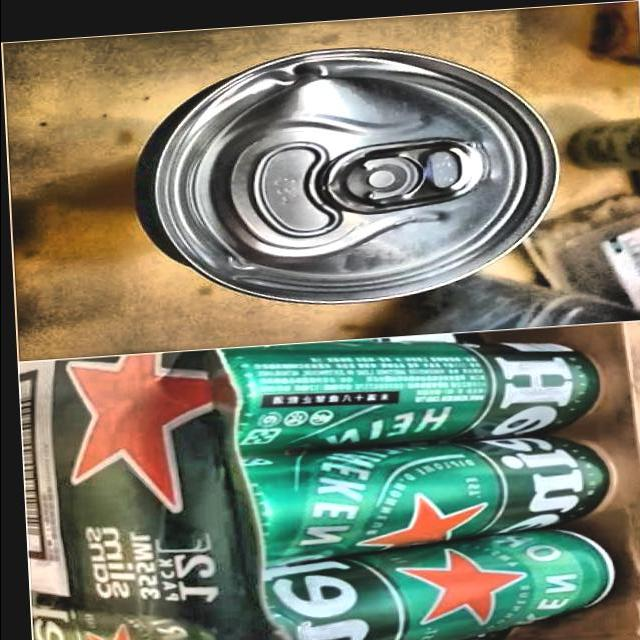litter: (119, 25, 570, 318), (222, 424, 622, 564), (201, 317, 598, 452), (243, 520, 623, 640)
